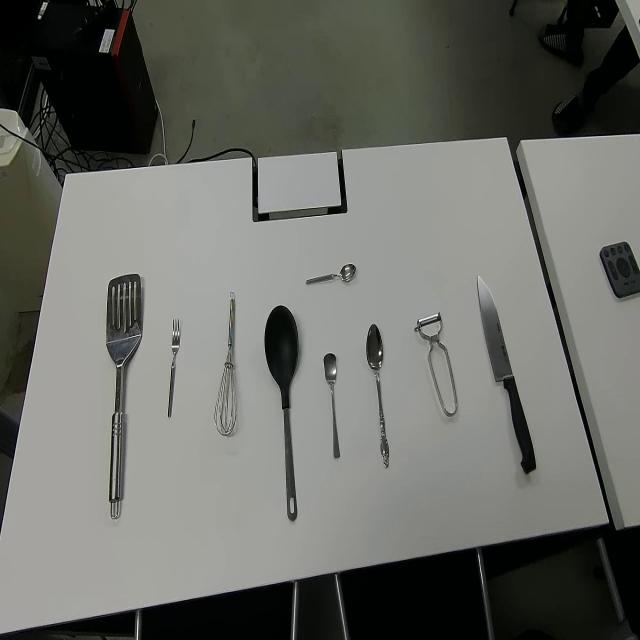Desert-Spoon: (366, 322, 391, 469)
Dinner-Fork: (165, 316, 181, 417)
Kitchen-Knife: (476, 274, 537, 476)
Peeler: (414, 310, 458, 417)
Serving-Spoon: (105, 270, 141, 520), (263, 302, 299, 522)
Tea-Spoon: (322, 351, 341, 461), (304, 261, 356, 285)
Whisk: (214, 290, 237, 436)
